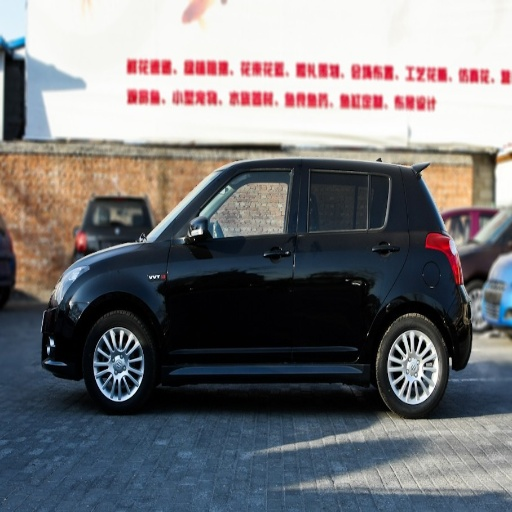back_left_door: (295, 160, 406, 364)
front_left_door: (169, 161, 300, 364)
